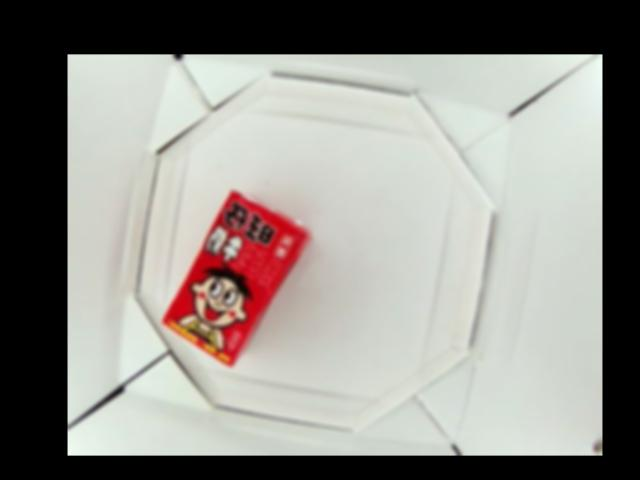Bottle: (159, 189, 309, 367)
